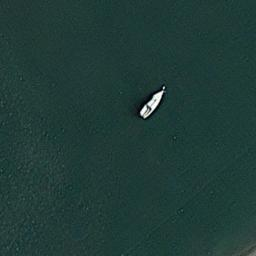boat: (138, 86, 166, 121)
